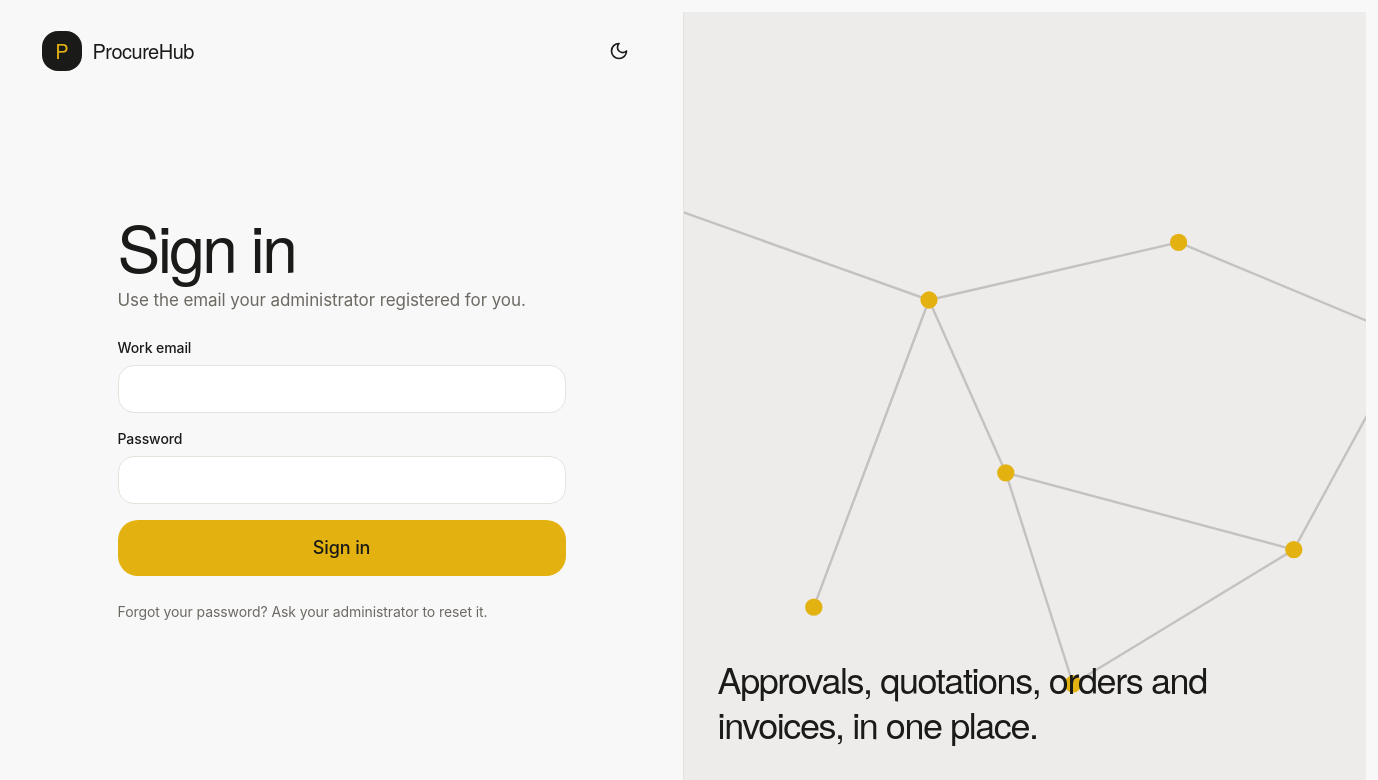
Test: routing › shows validation errors on the login form
What coordinates should you click on to do the following:
click the button "Sign in"
I would click on:
 (342, 548)
Its box is x1=118 y1=520 x2=566 y2=576.
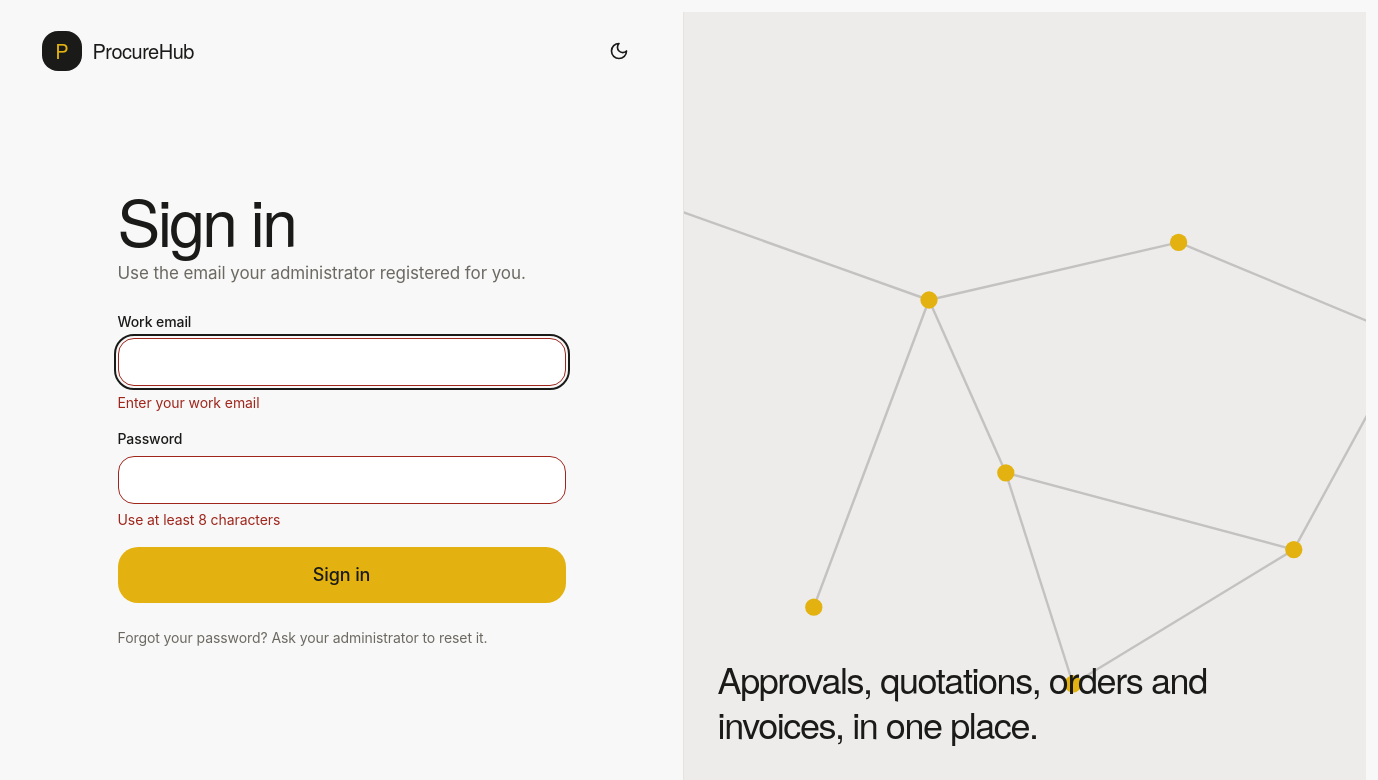
Now the text "Enter your work email" is shown, box x1=118 y1=394 x2=260 y2=411
